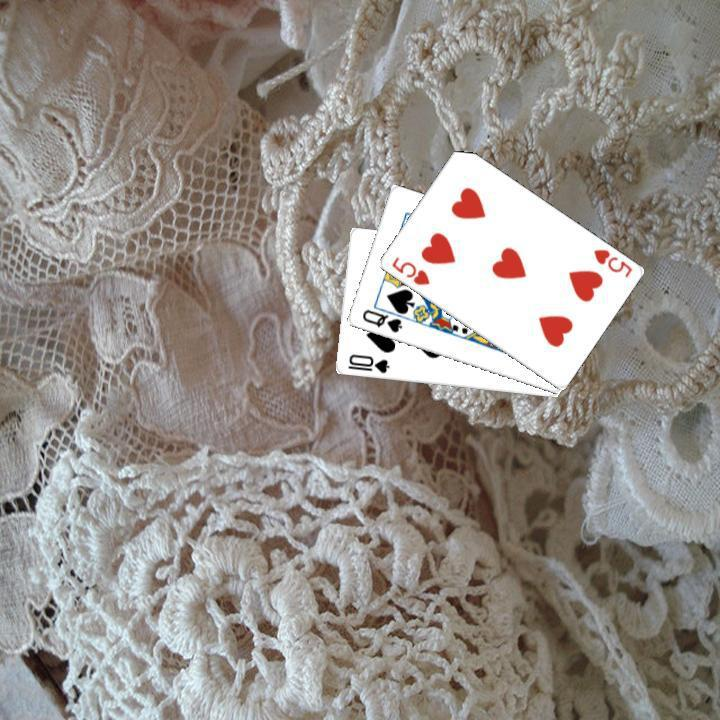10: (343, 350, 391, 376)
5: (588, 245, 634, 280), (387, 252, 431, 287)
Q: (357, 305, 404, 335)
